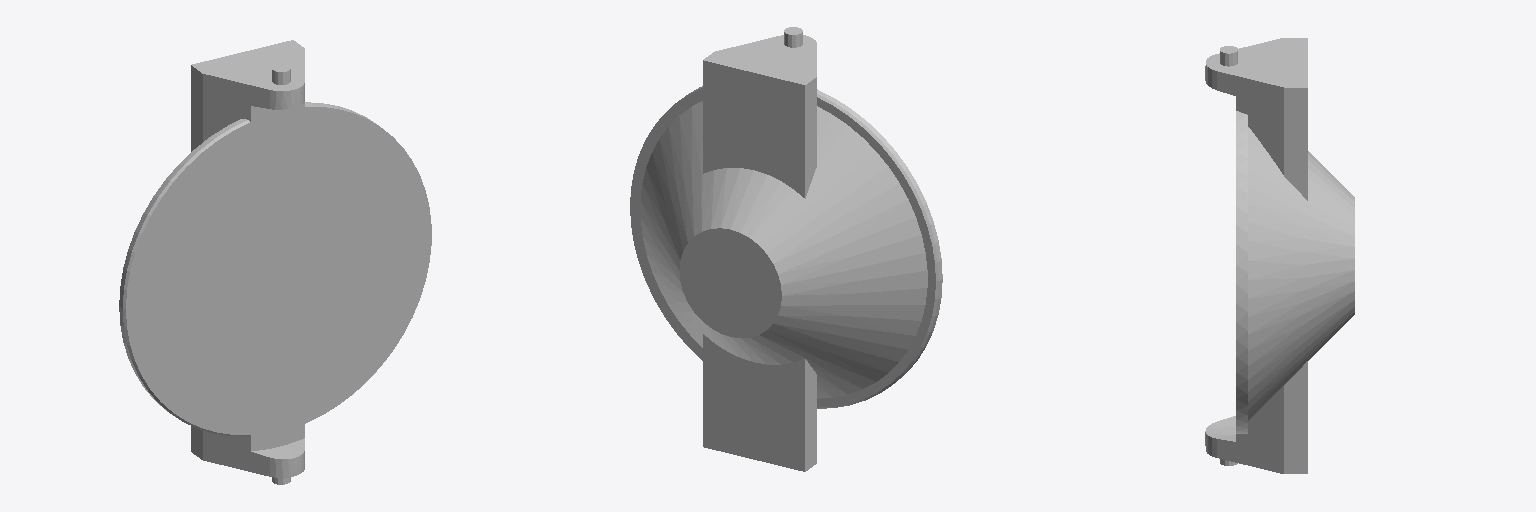
File: B_axis.obj
3 renders of one model, left to right at view 1: azimuth 30°, elevation 25°; view 2: azimuth 150°, elevation 25°; view 3: azimuth 270°, elevation 25°, orthographic.
Visible parts, largest first — view 1: Solid1; view 2: Solid1; view 3: Solid1.
Part boxes in pixels (x1,y1,x2,y2): Solid1: (119, 40, 431, 484); Solid1: (630, 27, 942, 471); Solid1: (1205, 38, 1354, 473).
Bounding box in the file's own units: 300 × 384 × 126.